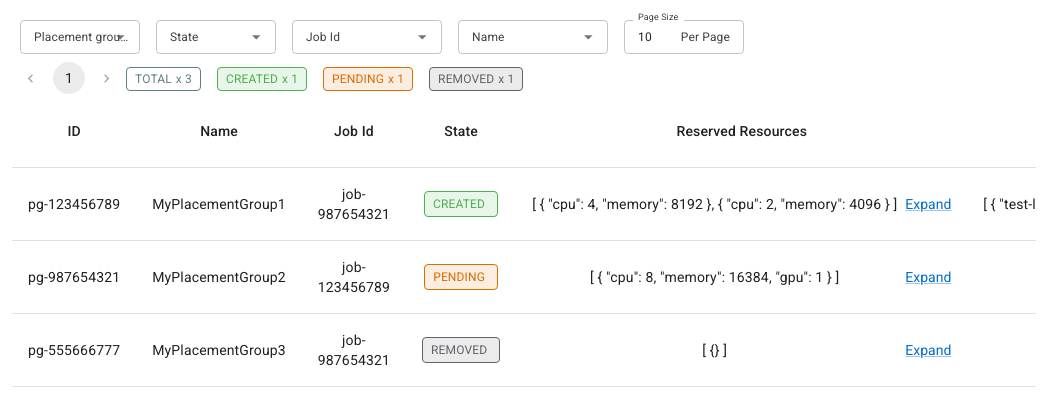
Scenario: PlacementGroupTable › renders placement groups filtered by placement group ID
Note: Filter by placement group ID
Step 1. Type "pg-123456789" into the dropdown labelled "Placement group ID" → [64, 37], box [26,26,101,48]
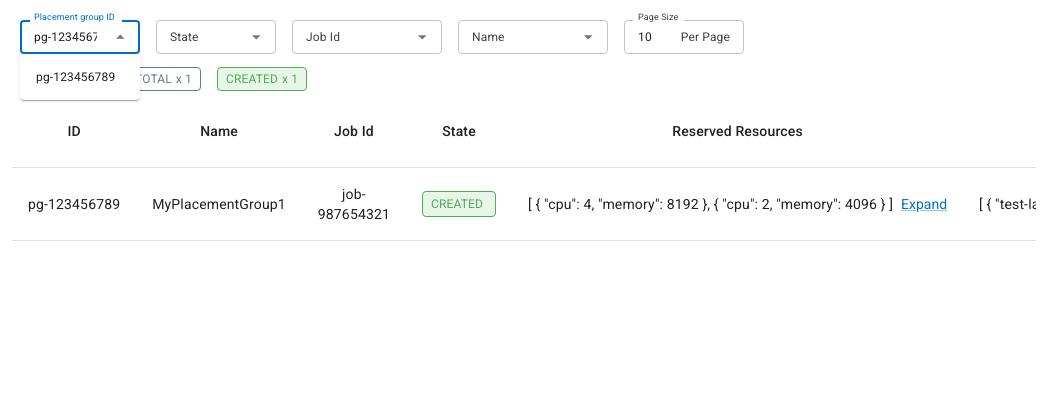
Expected: the text "pg-123456789" is shown, [28,194,120,214]
Now the text "pg-987654321" is gone
Now the text "pg-555666777" is gone
